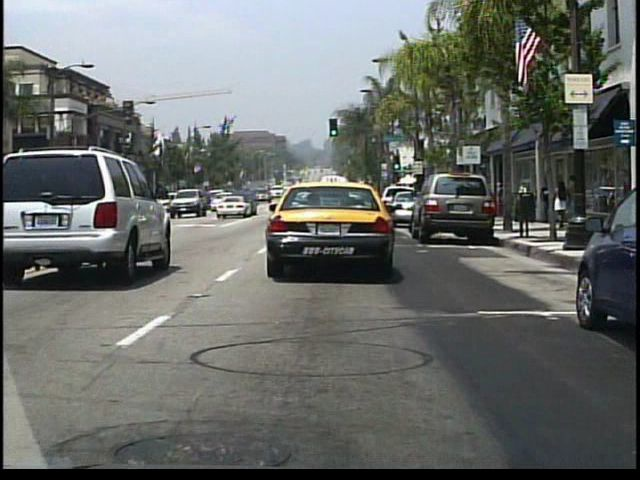person: (568, 172, 587, 229), (538, 177, 556, 226), (555, 174, 570, 230)
